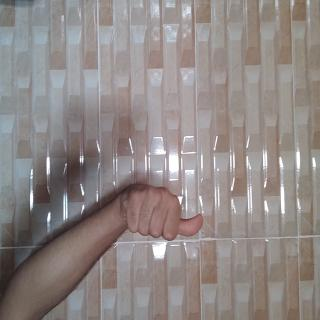ALIF: (134, 152, 188, 270)
